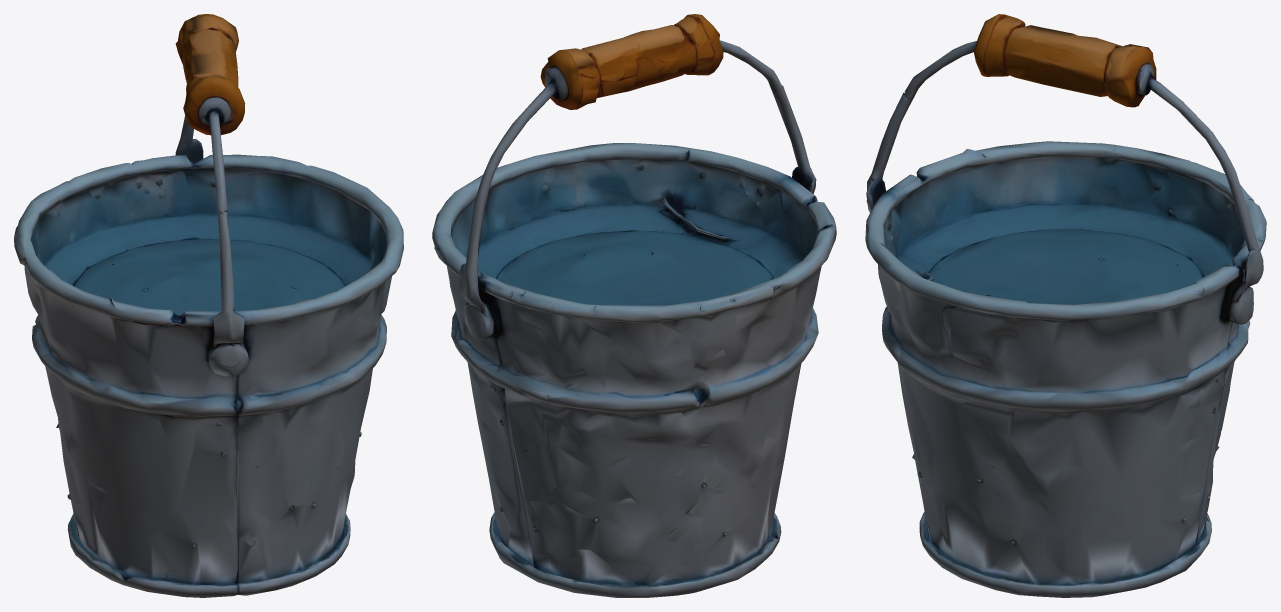
The model's file is prop-bucket.glb.
The picture shows the model from 3 angles, left to right: view 1: azimuth 30°, elevation 25°; view 2: azimuth 150°, elevation 25°; view 3: azimuth 270°, elevation 25°; orthographic projection. The views are drawn at different scales.
Parts seen in each view (by area): view 1: tripo_node_a467bc70-3b97-4451-8384-25f7212e8f1f; view 2: tripo_node_a467bc70-3b97-4451-8384-25f7212e8f1f; view 3: tripo_node_a467bc70-3b97-4451-8384-25f7212e8f1f.
Boxes of the visible parts, <box> form: tripo_node_a467bc70-3b97-4451-8384-25f7212e8f1f: <box>14,14,403,597</box>; tripo_node_a467bc70-3b97-4451-8384-25f7212e8f1f: <box>432,14,836,597</box>; tripo_node_a467bc70-3b97-4451-8384-25f7212e8f1f: <box>865,14,1266,597</box>.
Bounding box in the file's own units: 0.7167 × 0.9999 × 0.7142.
Materials: 1 (1 with a texture image).
